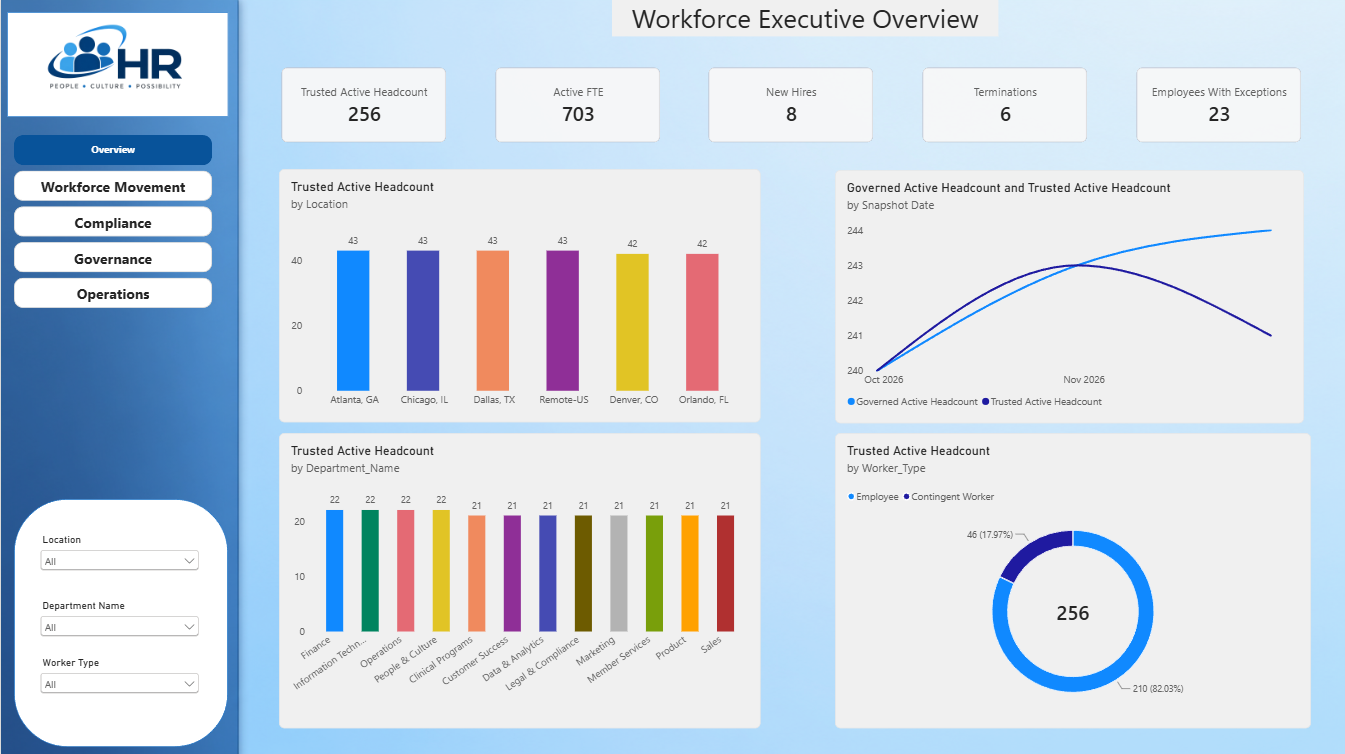

This screenshot's page, from the dashboard's own definition file:
{"tool":"powerbi","page":{"name":"Overview","canvas":[1920,1080],"ordinal":0},"visuals":[{"type":"shape","box":[8.8,17.7,316.3,150.1],"z":0},{"type":"shape","box":[18.9,712.4,305.7,354.2],"z":1000},{"type":"textbox","box":[872.9,0,552.3,52.2],"z":2000},{"type":"donutChart","fields":{"Category":["reporting vw_WorkforceTrusted.Worker_Type"],"Y":["_Measures.Trusted Active Headcount"]},"box":[1191.7,617.9,679.9,421.9],"z":3000},{"type":"clusteredColumnChart","fields":{"Category":["reporting vw_WorkforceTrusted.Department_Name"],"Y":["_Measures.Trusted Active Headcount"]},"box":[397.2,617.9,688.4,421.9],"z":4000},{"type":"clusteredColumnChart","fields":{"Category":["reporting vw_WorkforceTrusted.Location"],"Y":["_Measures.Trusted Active Headcount"]},"box":[397.2,241.3,688.4,362.1],"z":5000},{"type":"lineChart","fields":{"Category":["DimSnapshot.Snapshot Date"],"Y":["_Measures.Governed Active Headcount","_Measures.Trusted Active Headcount"]},"box":[1191.7,242.8,669.6,362.1],"z":6000},{"type":"cardVisual","fields":{"Data":["_Measures.Trusted Active Headcount"]},"box":[397.2,92.7,242,114.4],"z":7000},{"type":"cardVisual","fields":{"Data":["_Measures.Active FTE"]},"box":[702.5,92.7,242,114.4],"z":8000},{"type":"cardVisual","fields":{"Data":["_Measures.New Hires"]},"box":[1007.8,92.7,242,114.4],"z":9000},{"type":"cardVisual","fields":{"Data":["_Measures.Terminations"]},"box":[1313.1,92.7,242,114.4],"z":10000},{"type":"cardVisual","fields":{"Data":["_Measures.Employees With Exceptions"]},"box":[1618.4,92.7,242,114.4],"z":11000},{"type":"slicer","fields":{"Values":["reporting vw_WorkforceTrusted.Location"]},"box":[51.2,762.2,235.7,68.3],"z":12000},{"type":"slicer","fields":{"Values":["reporting vw_WorkforceTrusted.Department_Name"]},"box":[51.2,857.8,235.7,68.3],"z":13000},{"type":"slicer","fields":{"Values":["reporting vw_WorkforceTrusted.Worker_Type"]},"box":[51.2,938.6,235.7,68.3],"z":14000},{"type":"image","box":[0,0,325.1,150.1],"z":15000},{"type":"pageNavigator","box":[19.1,192.7,284,250.1],"z":16000}]}

Visuals, with their boxes in screenshot pixels (x1, y1, x2, y2), scaled from the page's 1920x1080 canvas onto the 1345x754 screenshot:
shape: 6 12 228 117
shape: 13 497 227 745
textbox: 611 0 998 36
donutChart - reporting vw_WorkforceTrusted.Worker_Type x _Measures.Trusted Active Headcount: 835 431 1311 726
clusteredColumnChart - reporting vw_WorkforceTrusted.Department_Name x _Measures.Trusted Active Headcount: 278 431 760 726
clusteredColumnChart - reporting vw_WorkforceTrusted.Location x _Measures.Trusted Active Headcount: 278 168 760 421
lineChart - DimSnapshot.Snapshot Date x _Measures.Governed Active Headcount: 835 170 1304 422
cardVisual - _Measures.Trusted Active Headcount: 278 65 448 145
cardVisual - _Measures.Active FTE: 492 65 662 145
cardVisual - _Measures.New Hires: 706 65 876 145
cardVisual - _Measures.Terminations: 920 65 1089 145
cardVisual - _Measures.Employees With Exceptions: 1134 65 1303 145
slicer - reporting vw_WorkforceTrusted.Location: 36 532 201 580
slicer - reporting vw_WorkforceTrusted.Department_Name: 36 599 201 647
slicer - reporting vw_WorkforceTrusted.Worker_Type: 36 655 201 703
image: 0 0 228 105
pageNavigator: 13 135 212 309
